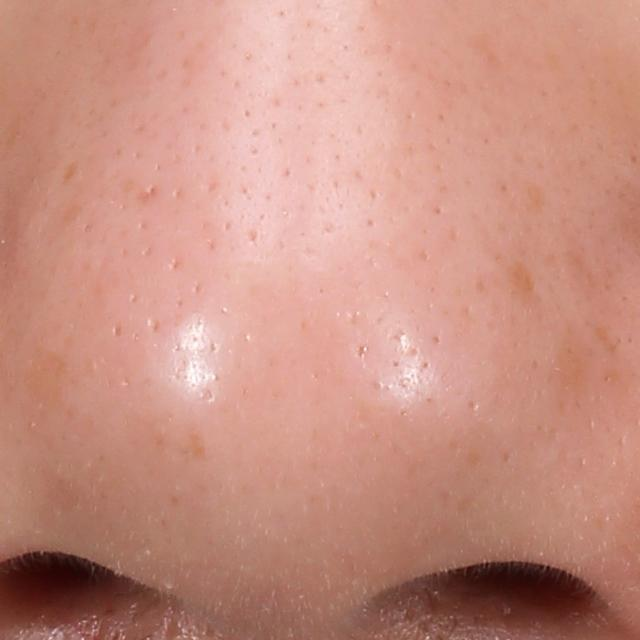melasma: (565, 226, 611, 304), (552, 330, 596, 409), (508, 255, 541, 305)
